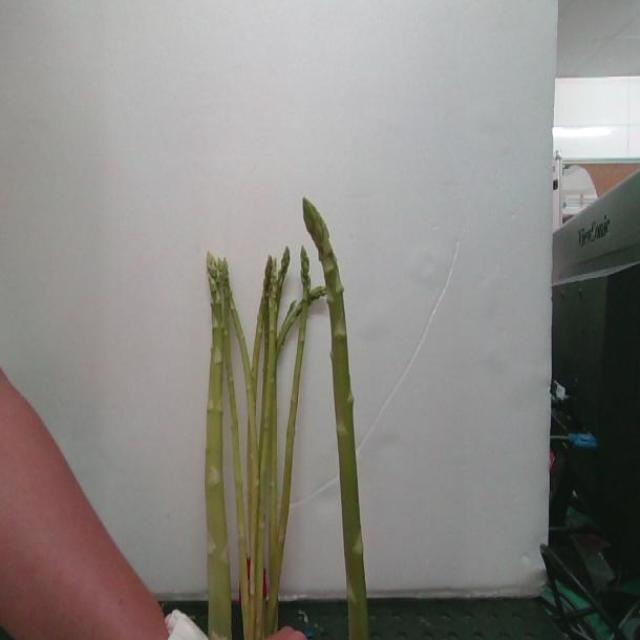aspargus: (303, 200, 369, 640)
